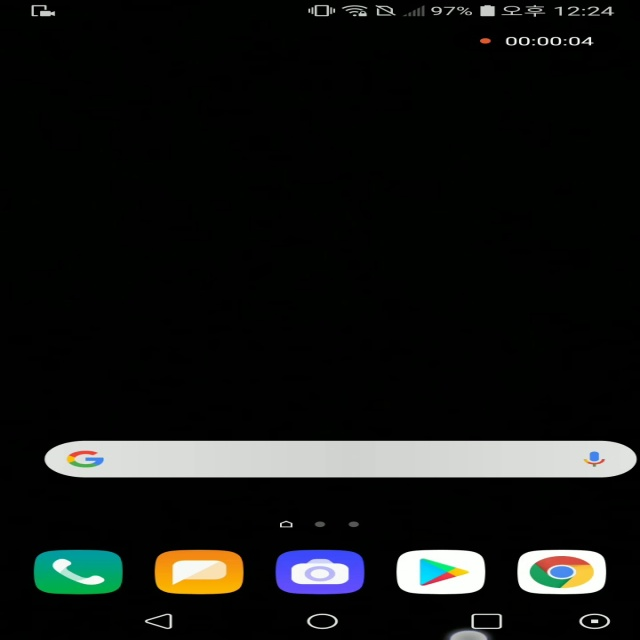Cursor: (451, 625, 490, 640)
